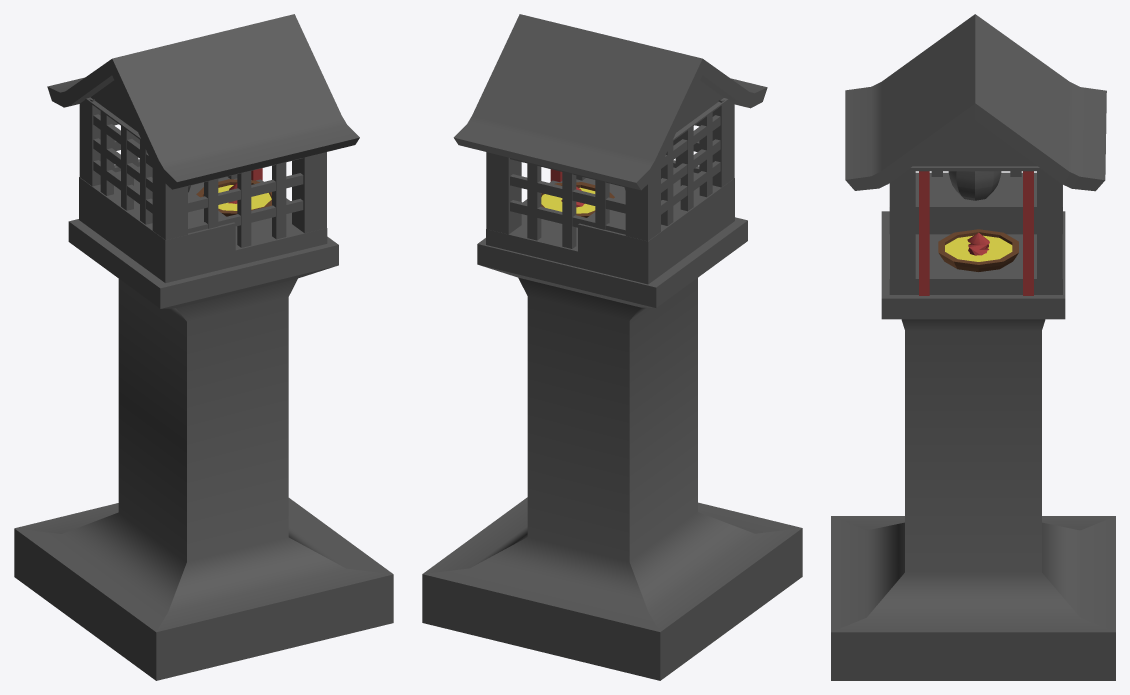
Rendered from lantern.fbx.
The picture shows the model from 3 angles, left to right: view 1: azimuth 30°, elevation 25°; view 2: azimuth 150°, elevation 25°; view 3: azimuth 270°, elevation 25°; orthographic projection.
Visible parts, largest first — view 1: lantern; view 2: lantern; view 3: lantern.
Part boxes in pixels (x1,y1,x2,y2): lantern: [14, 14, 393, 680]; lantern: [422, 14, 802, 680]; lantern: [831, 14, 1115, 680].
Bounding box in the file's own units: 0.8333 × 1.89 × 0.8632.
